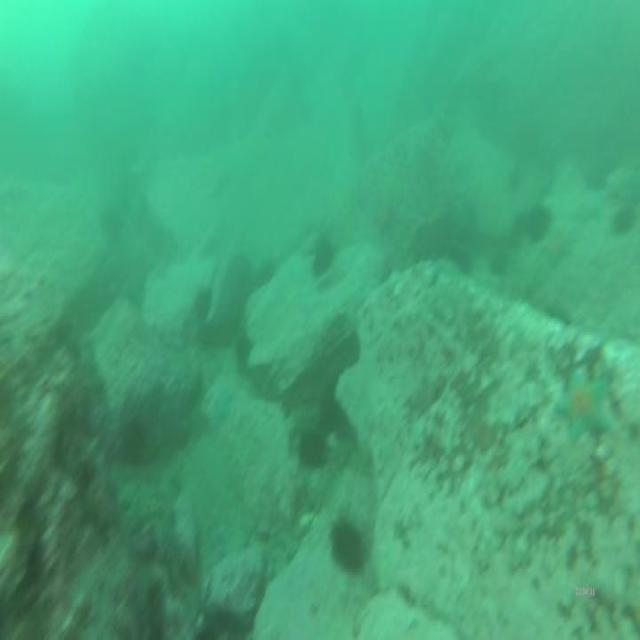echinus: (332, 523, 364, 569), (298, 427, 328, 469), (122, 419, 146, 463), (527, 199, 549, 243), (314, 240, 334, 274), (194, 288, 212, 324), (234, 336, 252, 366)
starfish: (555, 367, 609, 436)
